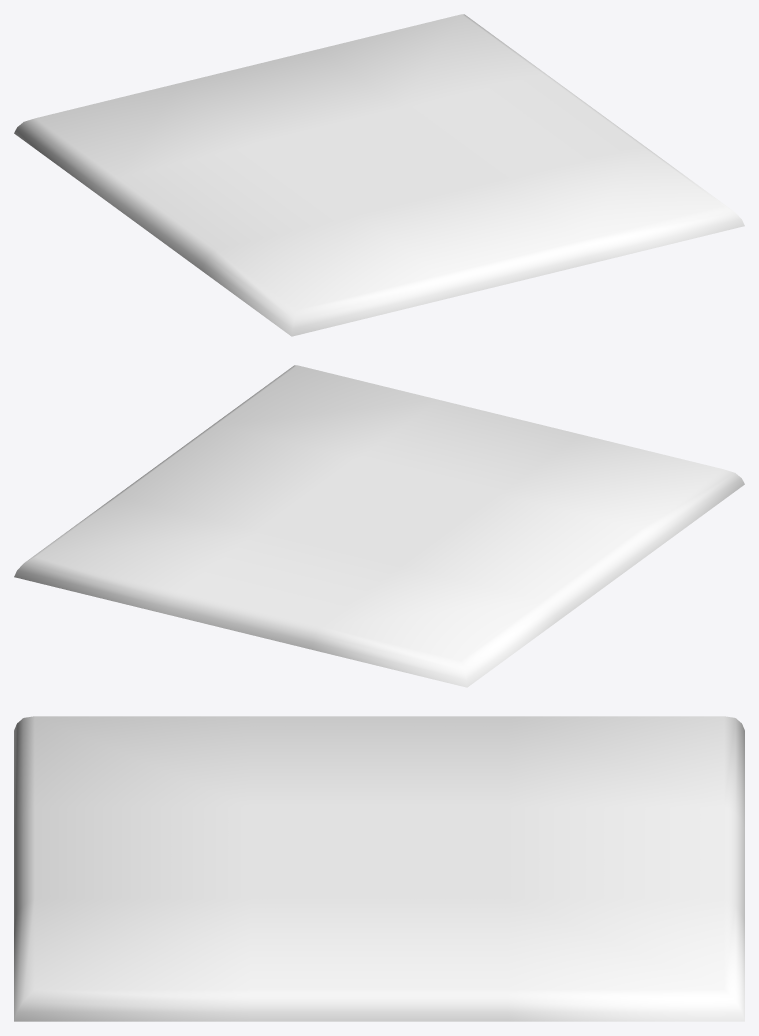
The model's file is Platform_Large.fbx.
The picture shows the model from 3 angles, top to bottom: view 1: azimuth 30°, elevation 25°; view 2: azimuth 150°, elevation 25°; view 3: azimuth 270°, elevation 25°; orthographic projection. The views are drawn at different scales.
Parts seen in each view (by area): view 1: Plane.002; view 2: Plane.002; view 3: Plane.002.
Part boxes in pixels (x1,y1,x2,y2): Plane.002: [14, 14, 744, 336]; Plane.002: [14, 365, 744, 687]; Plane.002: [14, 716, 744, 1021].
Bounding box in the file's own units: 1131 × 42.22 × 1201.
